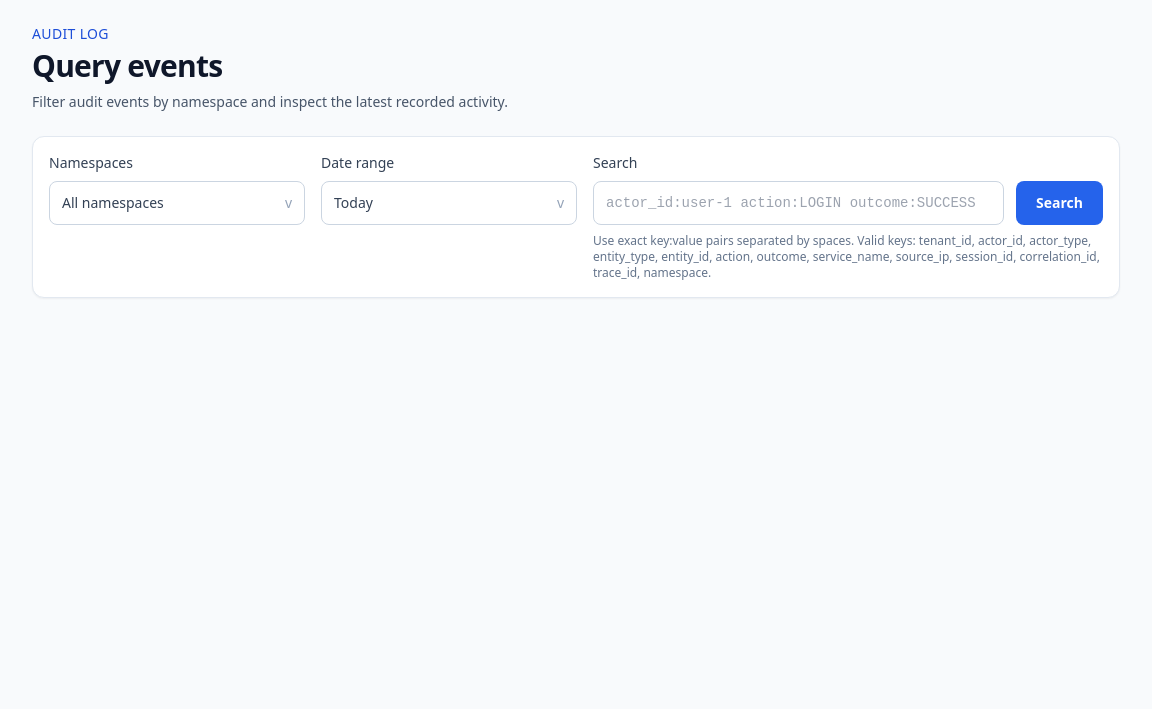
Scenario: QueryPage event details › expands details below a clicked event row
Click the button "Search" at (1060, 203), box [1016,181,1103,225]
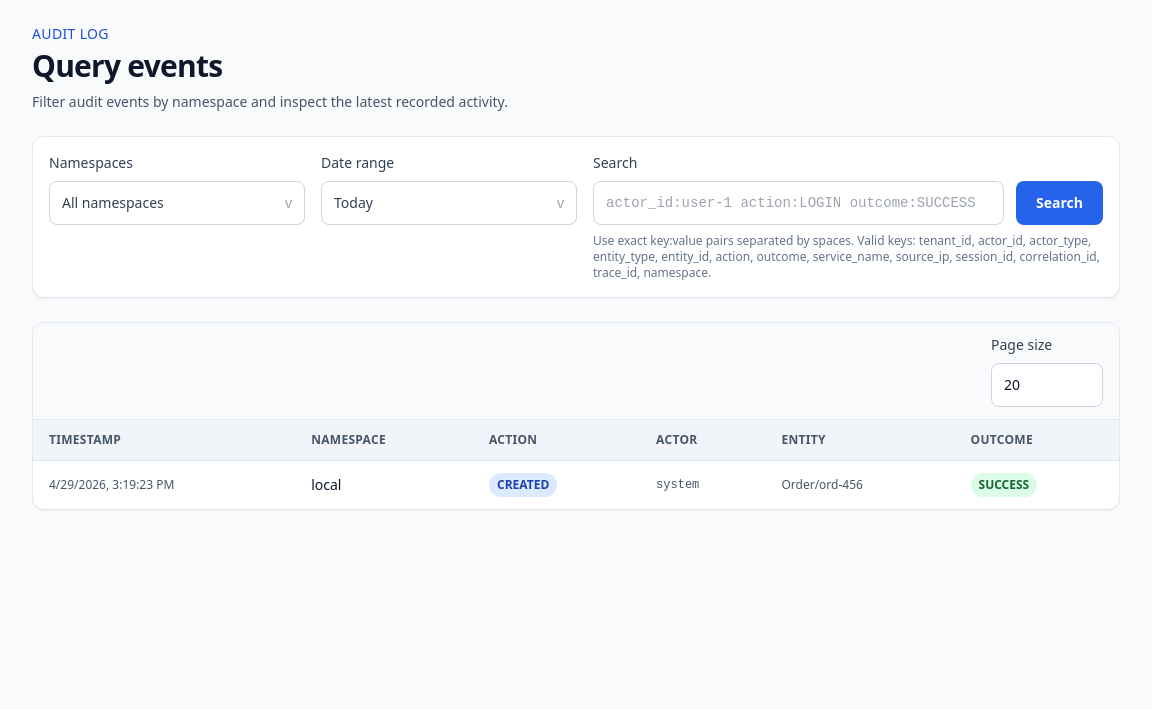
Click the row "CREATED" at (112, 484), box [33,460,1119,509]
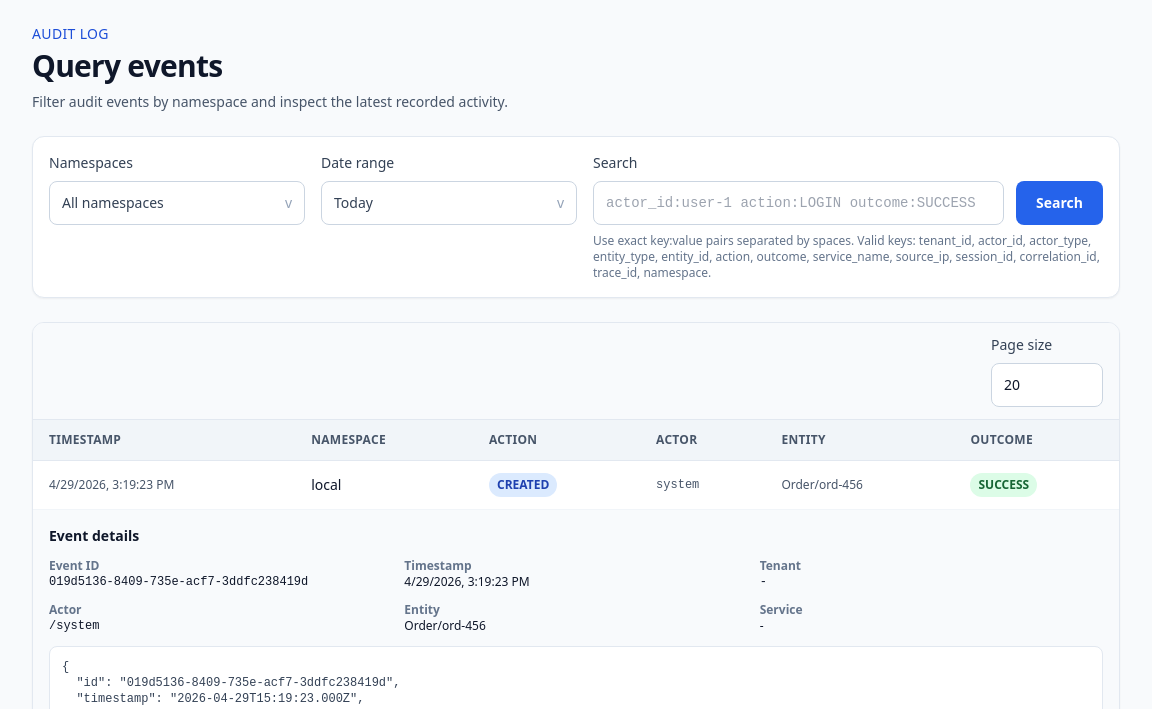
expect the heading "Event details" is shown: met, box [49,526,139,545]
expect the text "Event ID" is shown: met, box [49,557,99,574]
expect the text "019d5136-8409-735e-acf7-3ddfc238419d" is shown: met, box [49,575,308,589]
